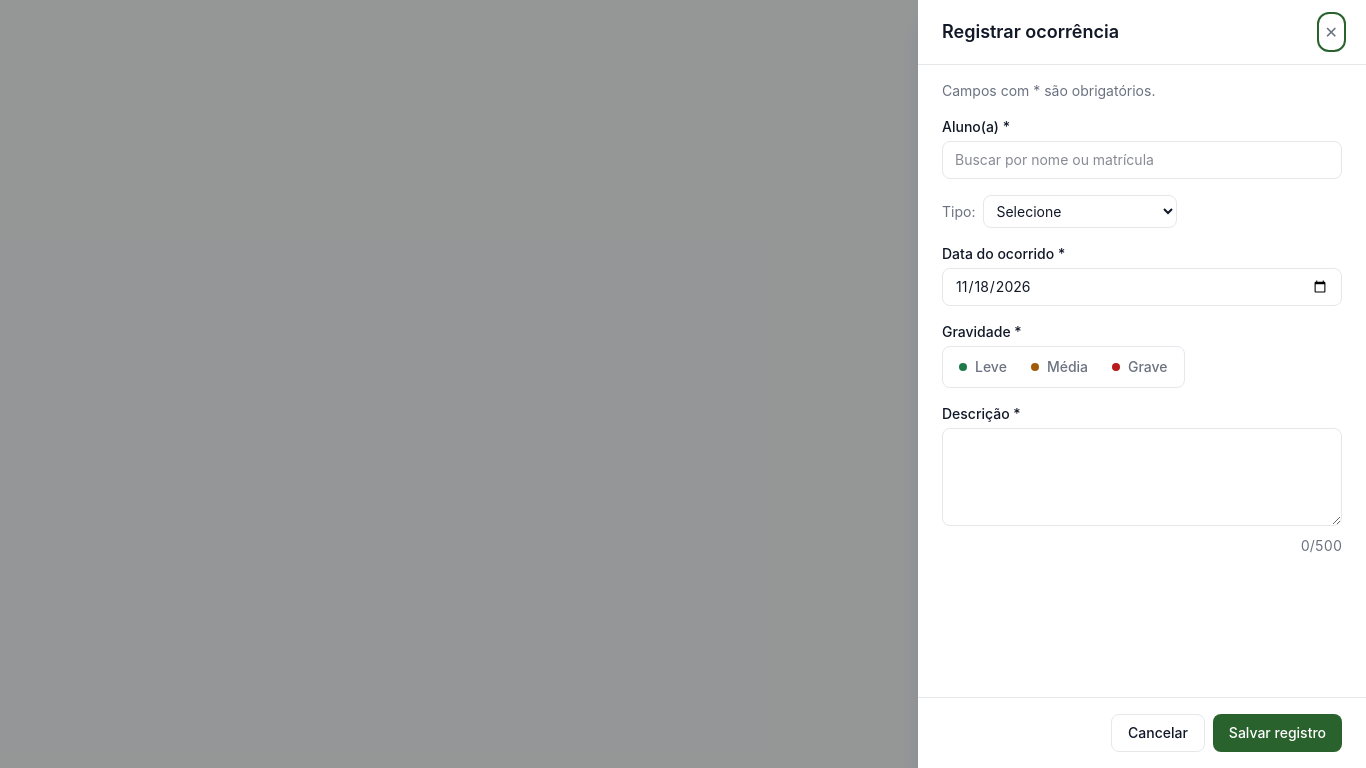
RegistrarOcorrenciaDrawer › pede confirmação ao cancelar quando há dados preenchidos
The width and height of the screenshot is (1366, 768).
Type "Algo foi preenchido." into the text box labelled "Descrição *".
click(1142, 477); type("Algo foi preenchido.")  # box top-left (942, 428), bottom-right (1342, 526)
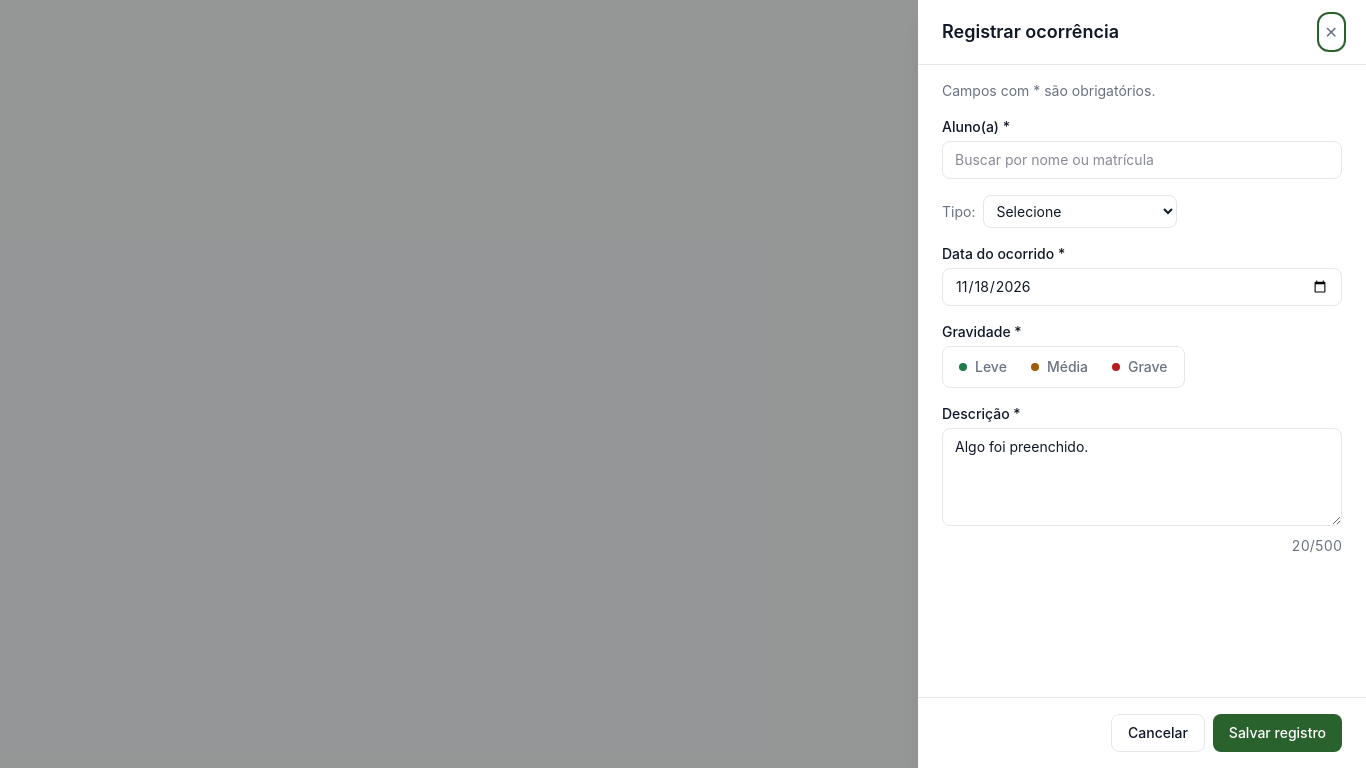
Click the button "Cancelar".
click(1158, 733)  # box top-left (1111, 714), bottom-right (1205, 752)
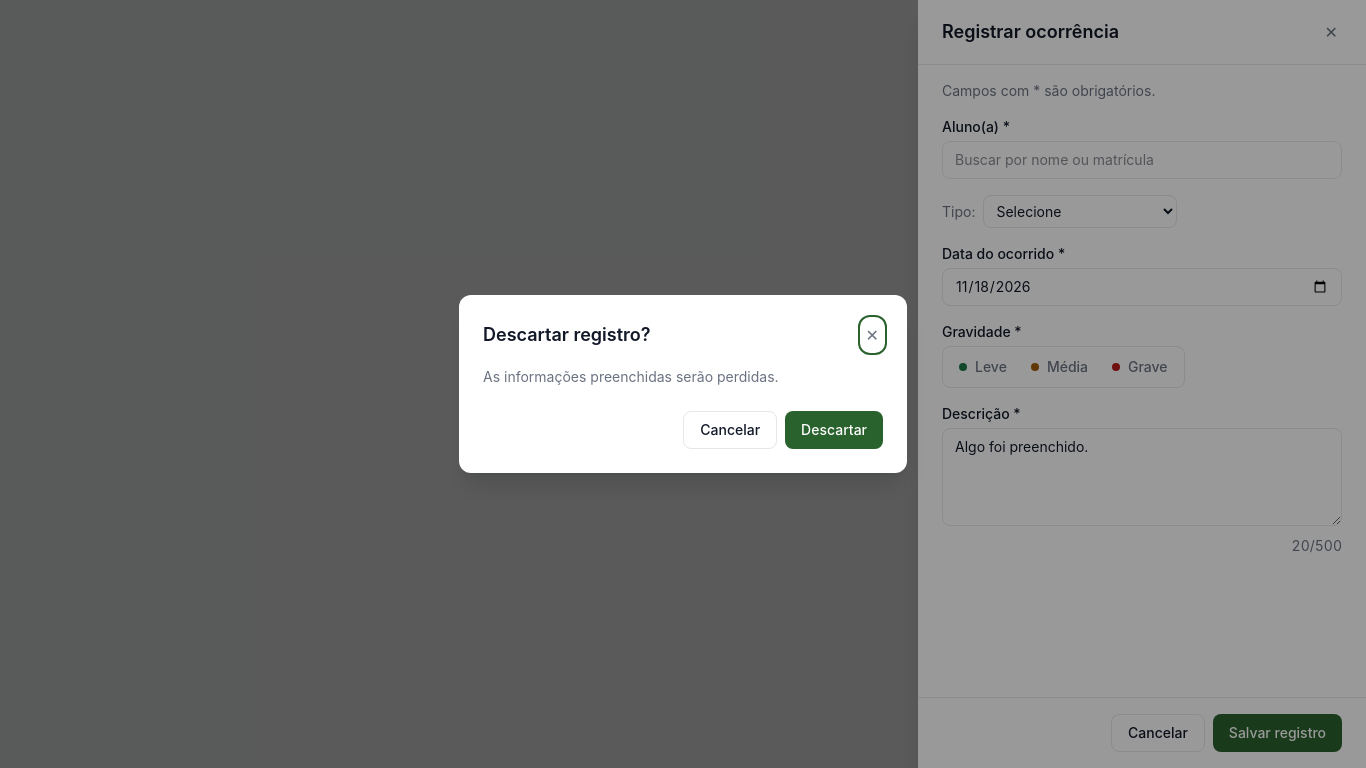
Expected: the text "As informações preenchidas serão perdidas." is shown, top-left (483, 368), bottom-right (779, 385)
